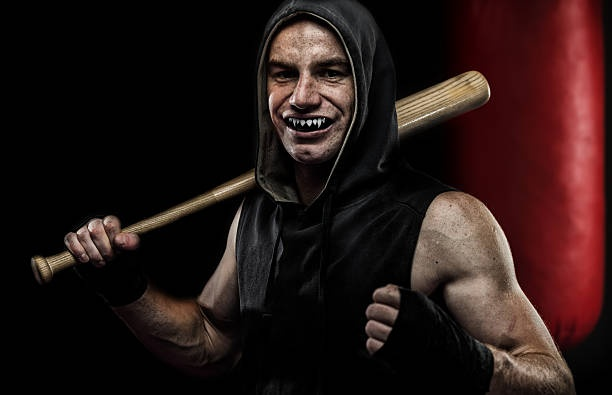bita: (37, 75, 488, 284)
